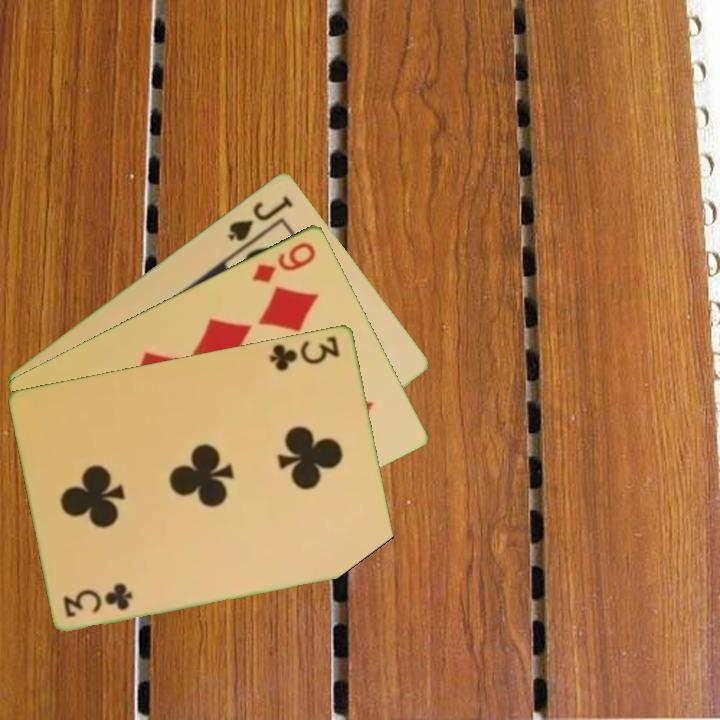3c: (266, 332, 343, 373), (60, 581, 137, 620)
9d: (248, 237, 319, 285)
Js: (224, 191, 296, 244)
